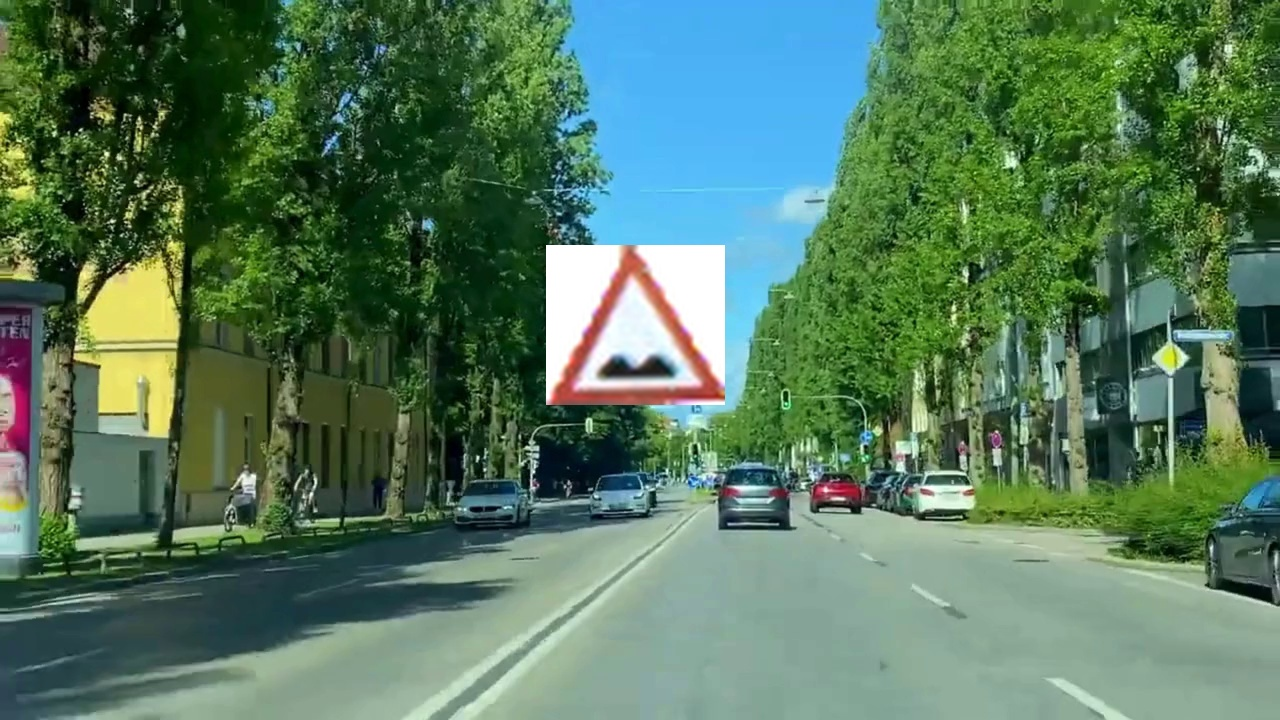Bumpy road: (546, 245, 725, 405)
